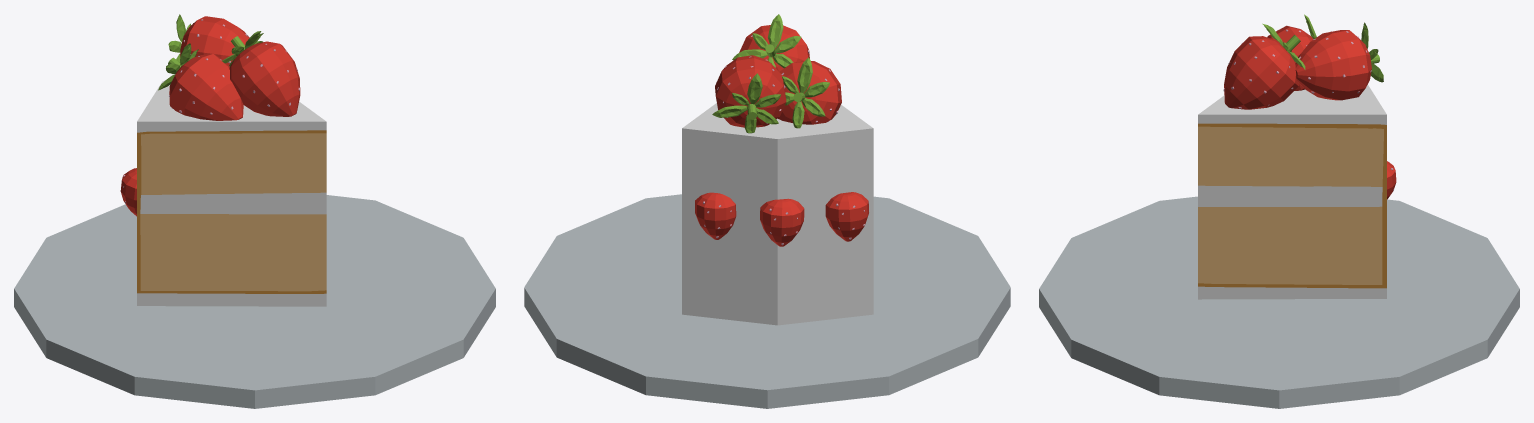
3 views of the same model, side by side, from view 1: azimuth 30°, elevation 25°; view 2: azimuth 150°, elevation 25°; view 3: azimuth 270°, elevation 25° (orthographic).
Parts seen in each view (by area): view 1: node_MeshObject-1144054208-PolyPaper6, node_MeshObject-1662774272-PolyPaper21; view 2: node_MeshObject-1144054208-PolyPaper6, node_MeshObject-1662774272-PolyPaper21; view 3: node_MeshObject-1144054208-PolyPaper6, node_MeshObject-1662774272-PolyPaper21.
Part boxes in pixels (bbox=[...]): node_MeshObject-1144054208-PolyPaper6: bbox=[14, 31, 495, 408]; node_MeshObject-1662774272-PolyPaper21: bbox=[120, 14, 326, 306]; node_MeshObject-1144054208-PolyPaper6: bbox=[524, 14, 1010, 408]; node_MeshObject-1662774272-PolyPaper21: bbox=[682, 55, 873, 325]; node_MeshObject-1144054208-PolyPaper6: bbox=[1039, 23, 1519, 408]; node_MeshObject-1662774272-PolyPaper21: bbox=[1198, 14, 1396, 299].
Bounding box in the file's own units: 0.94 × 0.6099 × 0.94.
